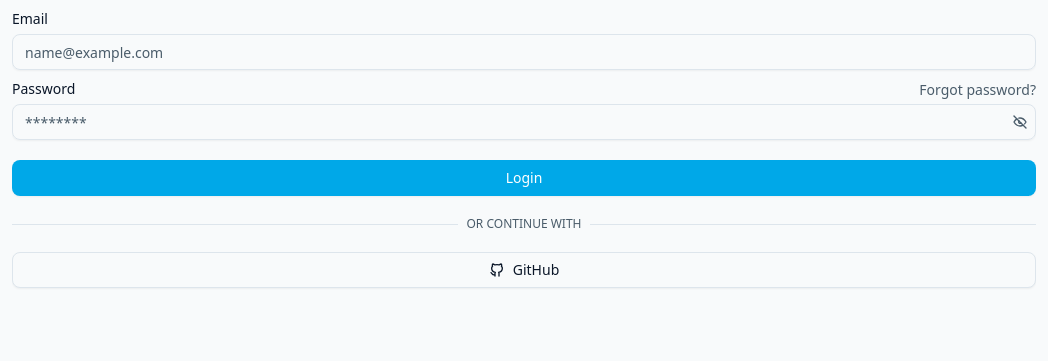
UserAuthForm › shows error for invalid email format
Type "invalid-email" into the field labelled "Email" at (524, 52), box [12,34,1036,70]
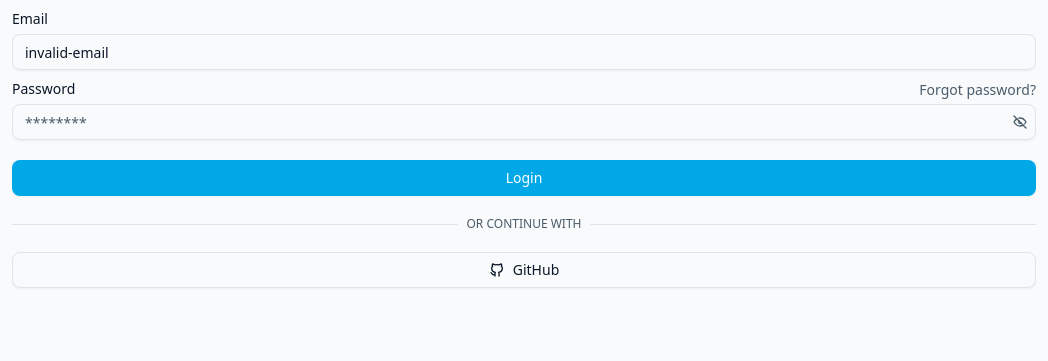
Click the button "Login" at (524, 178), box [12,160,1036,196]
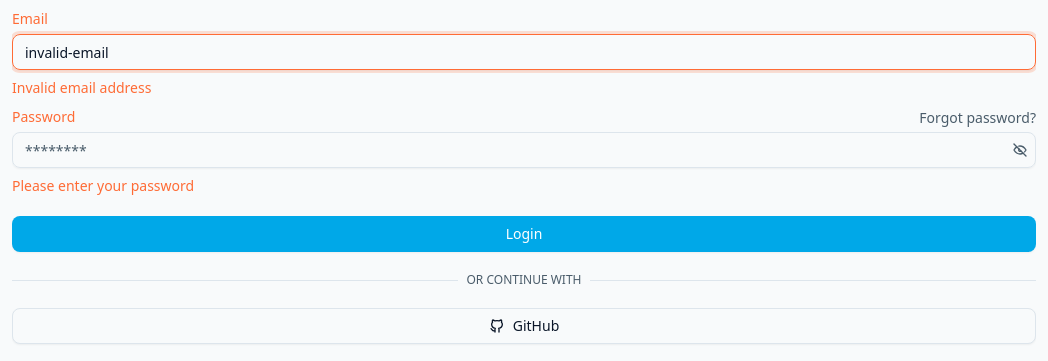
Expected: the text "Invalid email address" is shown, [12,78,151,97]
